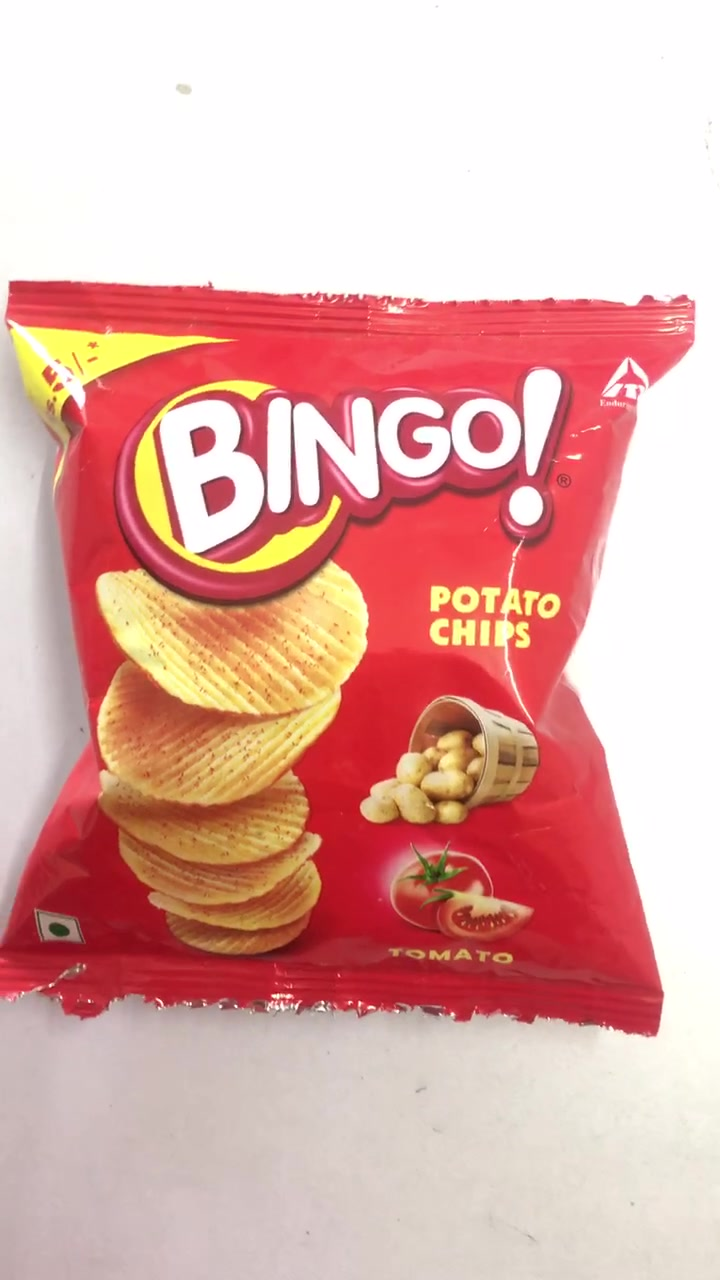Bingo: (6, 278, 692, 1035)
